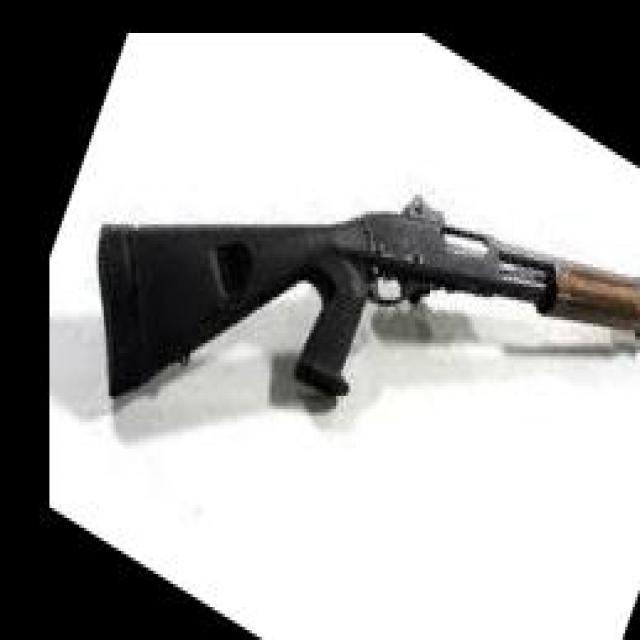weapon: (96, 192, 640, 402)
